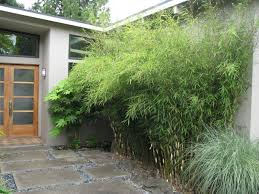bamboo: (86, 11, 250, 134), (149, 36, 192, 179), (105, 41, 147, 159), (50, 69, 116, 128)
